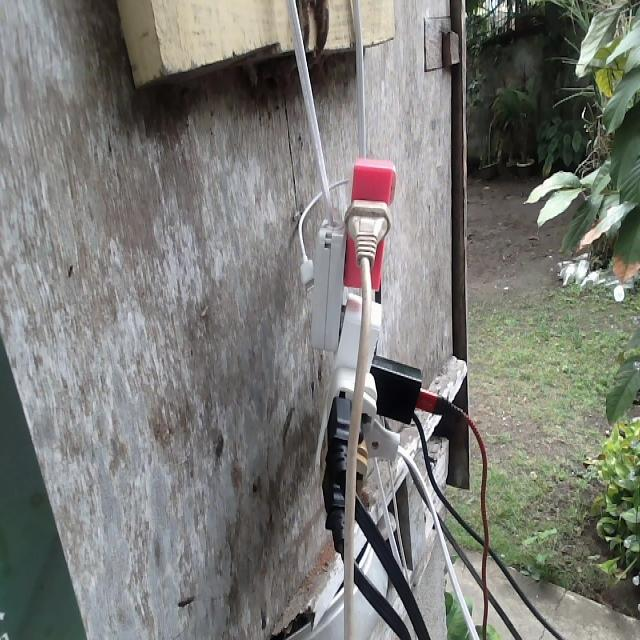-: (308, 155, 424, 521)
